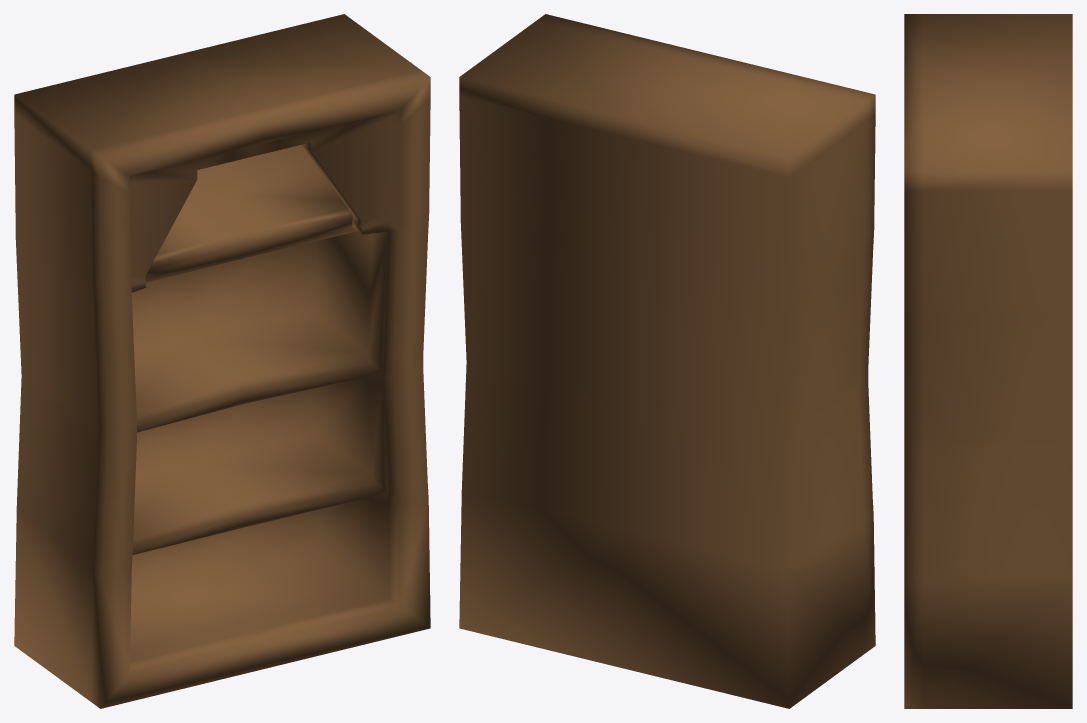
Rendered from Bookshelf_Small.glb.
3 views of the same model, side by side, from view 1: azimuth 30°, elevation 25°; view 2: azimuth 150°, elevation 25°; view 3: azimuth 270°, elevation 25° (orthographic). The views are drawn at different scales.
Parts seen in each view (by area): view 1: Bookshelf_Small; view 2: Bookshelf_Small; view 3: Bookshelf_Small.
Part boxes in pixels (x1=…): Bookshelf_Small: x1=14, y1=14, x2=430, y2=708; Bookshelf_Small: x1=459, y1=14, x2=875, y2=708; Bookshelf_Small: x1=904, y1=14, x2=1072, y2=708.
Bounding box in the file's own units: 1.27 × 2.02 × 0.5727.
